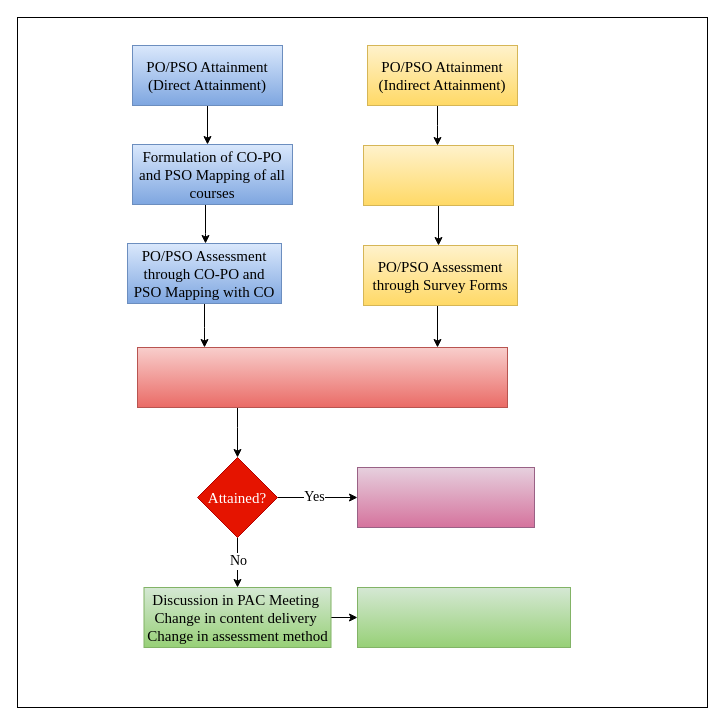
The diagram is 725 pixels wide and 725 high, and some of its shapes have lost their labels. Here are the shapes that lost their labels. From the top down, the box of each, then its label:
(362, 144, 514, 206): Formulation of Survey Forms
(136, 346, 508, 408): Calculate Overall PO/PSO Attainment: Direct (90%) + Indirect (10%)
(356, 466, 534, 528): Increase the Competency and Level of attainment for the next academic year
(356, 586, 570, 648): Implement the necessary changes in the next academic year
